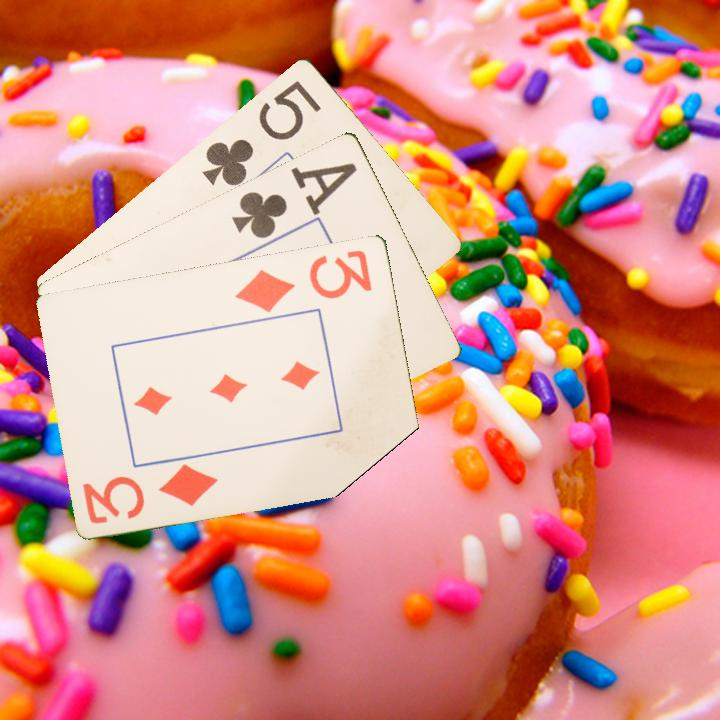3d: (232, 246, 376, 315), (79, 460, 221, 527)
5c: (198, 76, 324, 189)
Ac: (228, 158, 361, 241)
